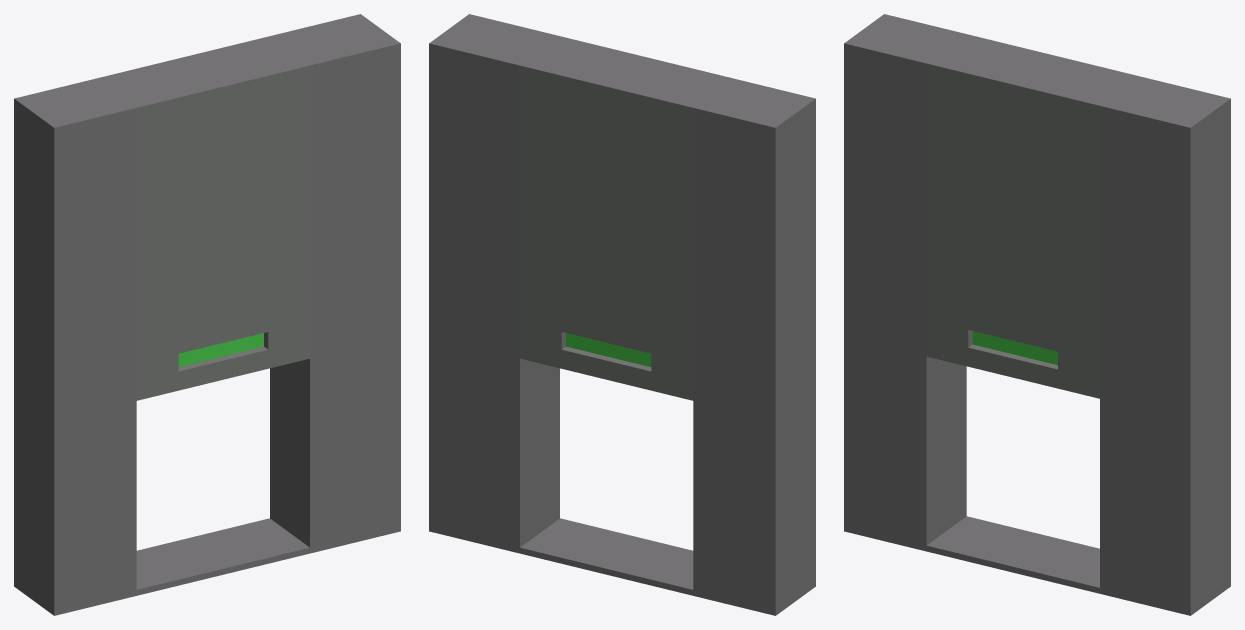
File: BossRoomDoor.fbx
3 views of the same model, side by side, from view 1: azimuth 30°, elevation 25°; view 2: azimuth 150°, elevation 25°; view 3: azimuth 330°, elevation 25° (orthographic).
Visible parts, largest first — view 1: StandardDoor.019; view 2: StandardDoor.019; view 3: StandardDoor.019.
Part boxes in pixels (bbox=[...]): StandardDoor.019: bbox=[14, 14, 400, 615]; StandardDoor.019: bbox=[429, 14, 815, 615]; StandardDoor.019: bbox=[844, 14, 1230, 615].
Size of the model in its own units: 490 by 98.36 by 659.
